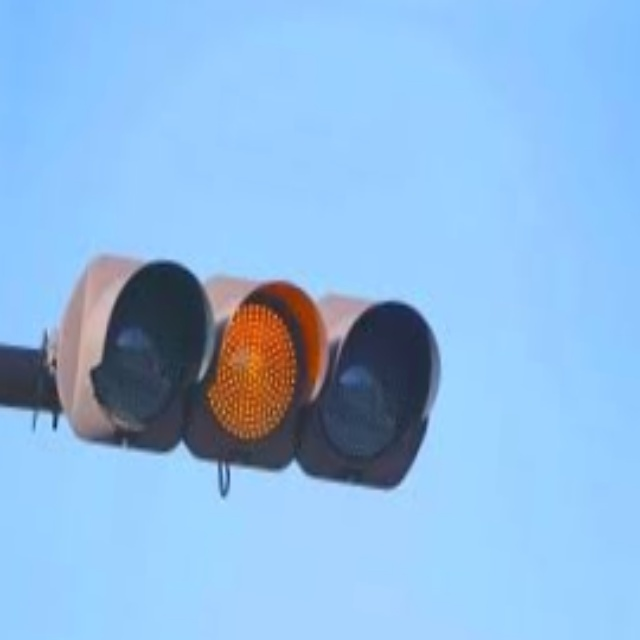yellow_light: (195, 297, 309, 454)
